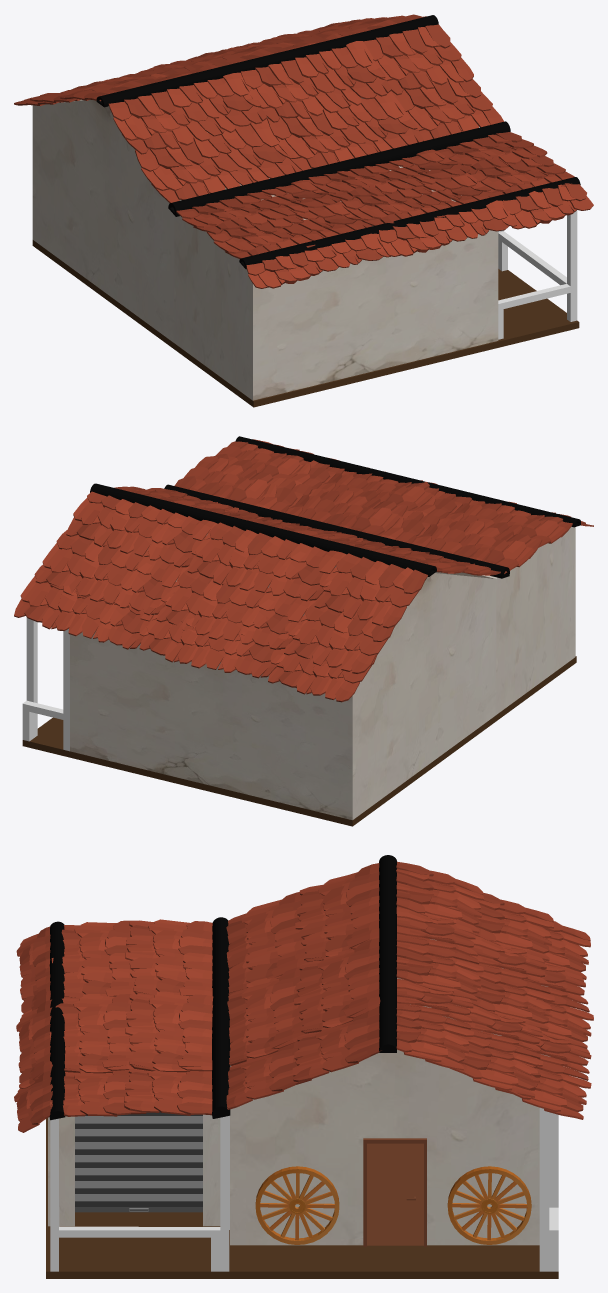
File: Casa.fbx
The picture shows the model from 3 angles, top to bottom: view 1: azimuth 30°, elevation 25°; view 2: azimuth 150°, elevation 25°; view 3: azimuth 270°, elevation 25°; orthographic projection. The views are drawn at different scales.
Parts seen in each view (by area): view 1: Telhado, Base, Chão, Cube.037; view 2: Telhado, Base, Chão, Cube.037; view 3: Telhado, Base, Chão, Portão, Cube.037.
Part boxes in pixels (box(x1,y1,x2,y2)): Telhado: box(14, 14, 593, 288); Base: box(32, 67, 498, 400); Chão: box(32, 240, 579, 407); Cube.037: box(498, 210, 577, 339); Telhado: box(14, 436, 593, 702); Base: box(70, 526, 575, 820); Chão: box(22, 656, 576, 826); Cube.037: box(22, 617, 69, 751); Telhado: box(14, 855, 593, 1132); Base: box(48, 939, 550, 1246); Chão: box(46, 1118, 558, 1278); Portão: box(75, 1111, 202, 1212); Cube.037: box(50, 1107, 558, 1271).
Bounding box in the file's own units: 886 × 507 × 1127.
